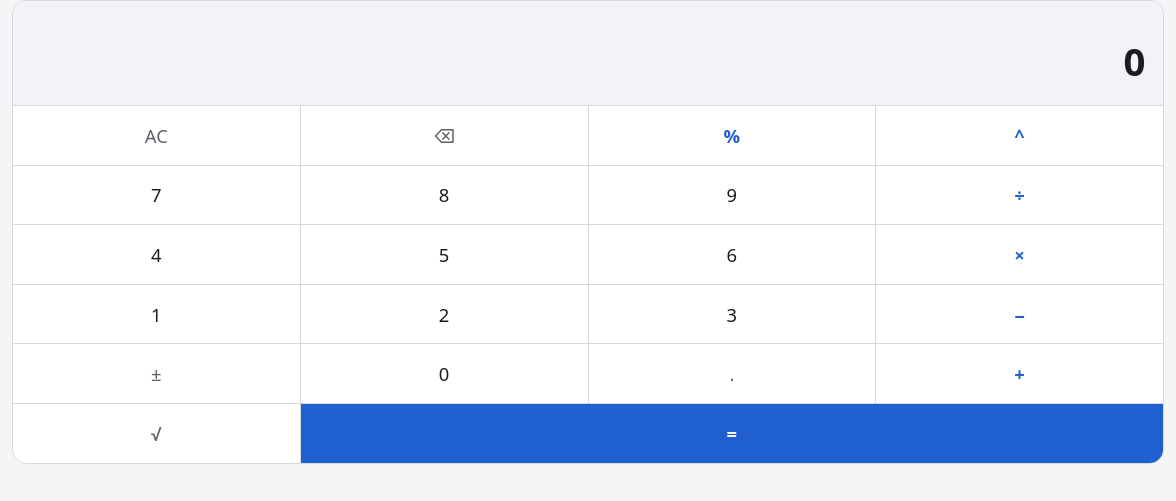
it: Keypad › shows the message the service sent
Click the button "1" at point(156, 314), box [13,285,300,343]
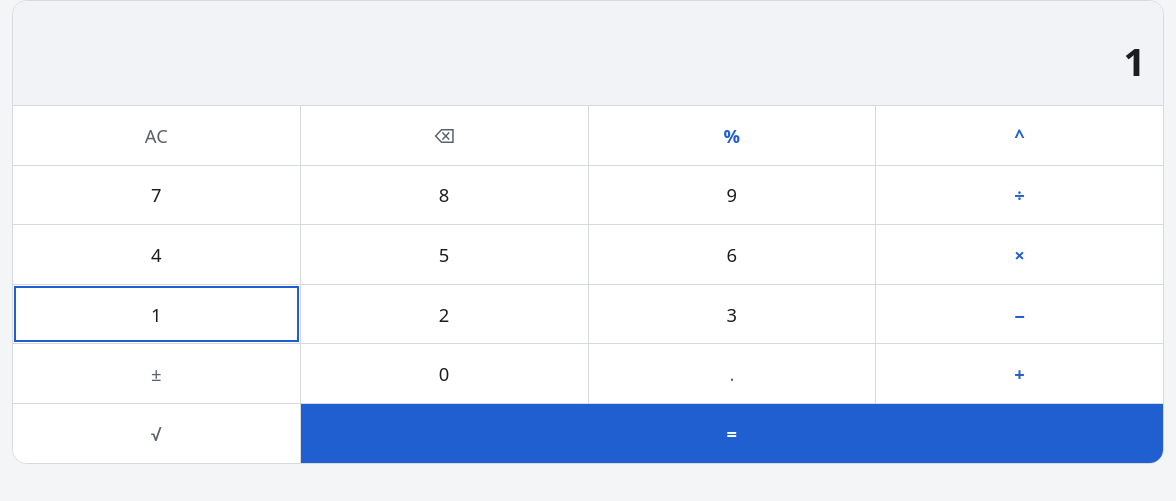
Click the button named "Divide" at point(1020, 195), box [876,166,1163,224]
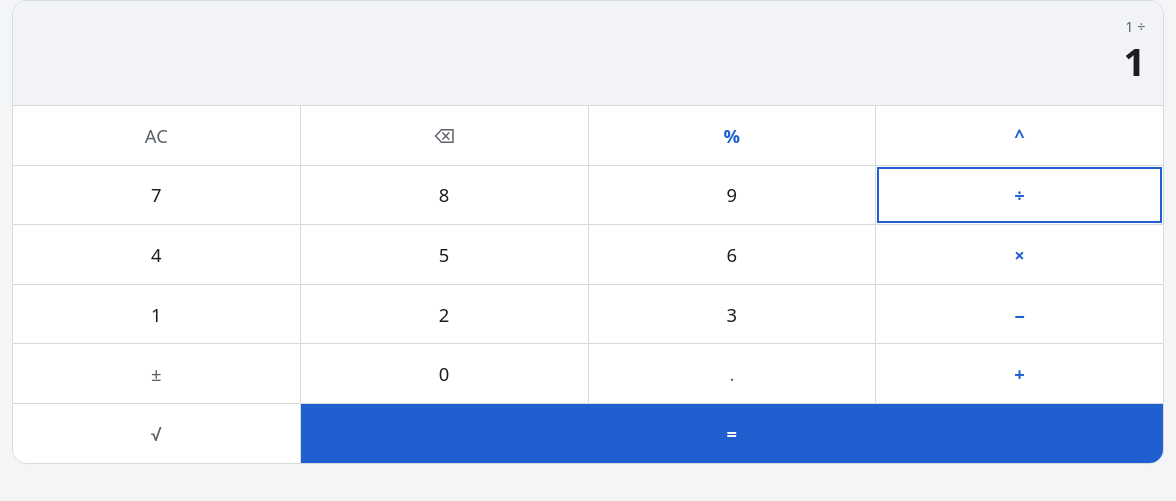
Click the button "0" at point(444, 374), box [301,344,588,403]
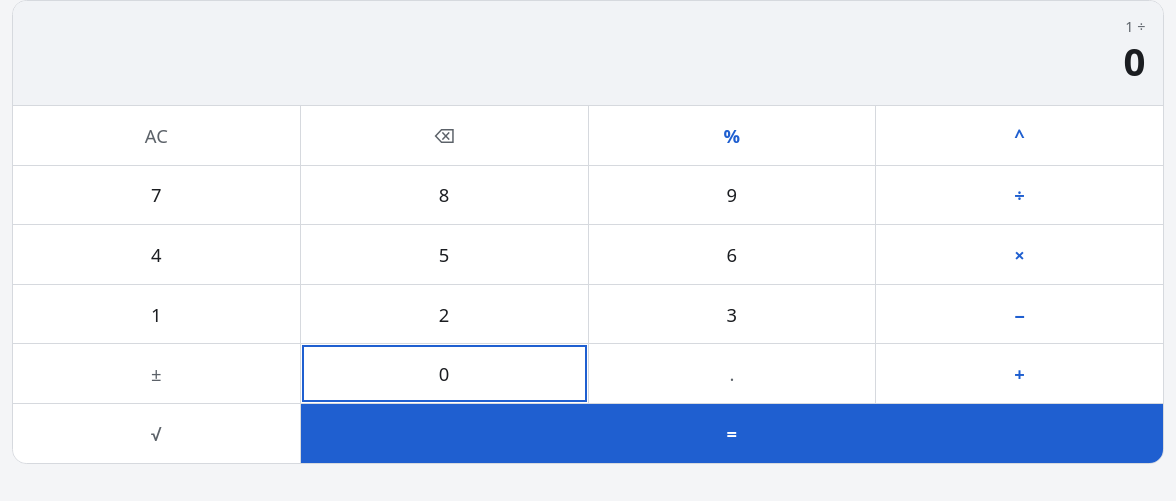
Click the button named "Equals" at point(732, 433), box [301,404,1163,463]
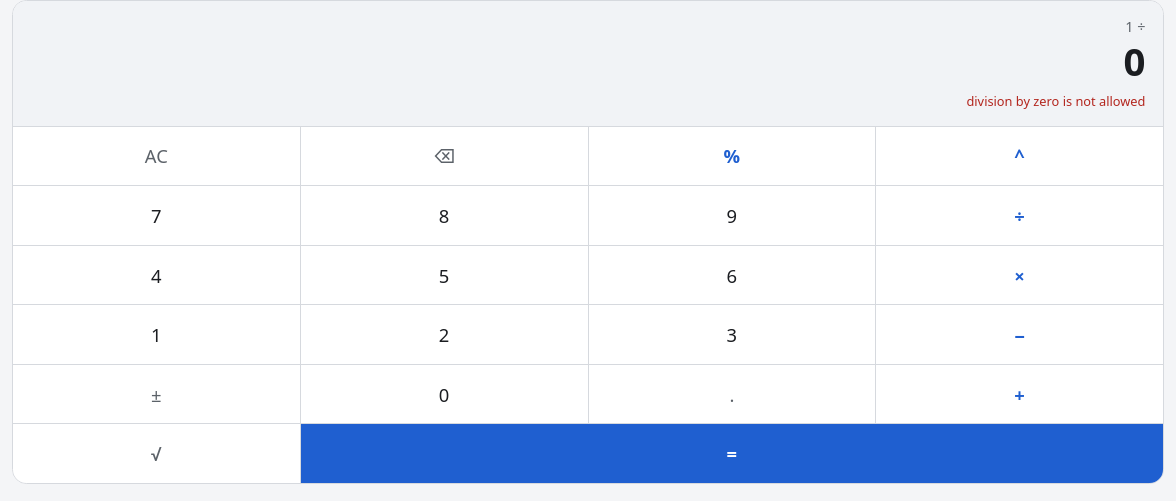
Check: the message reads "division by zero is not allowed", box [966,92,1146,110]
